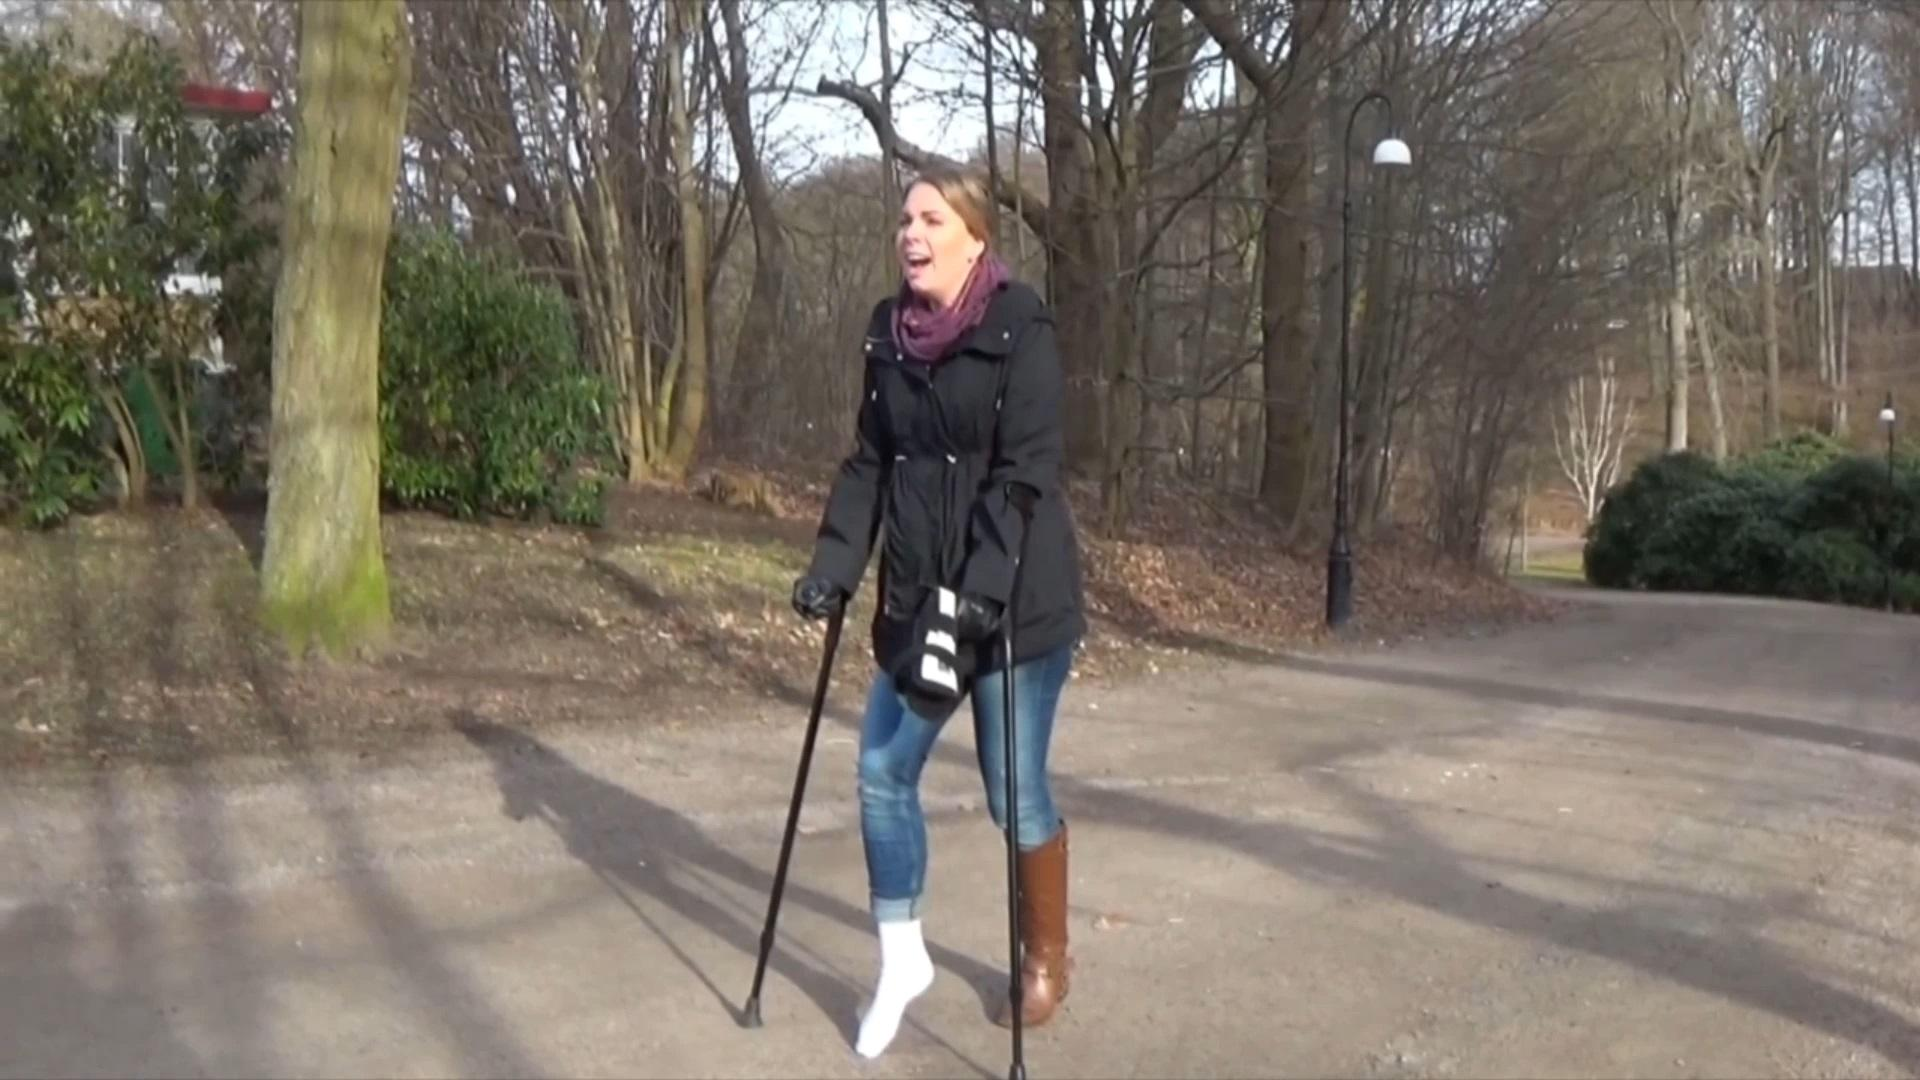crutches: (737, 164, 1091, 1080)
